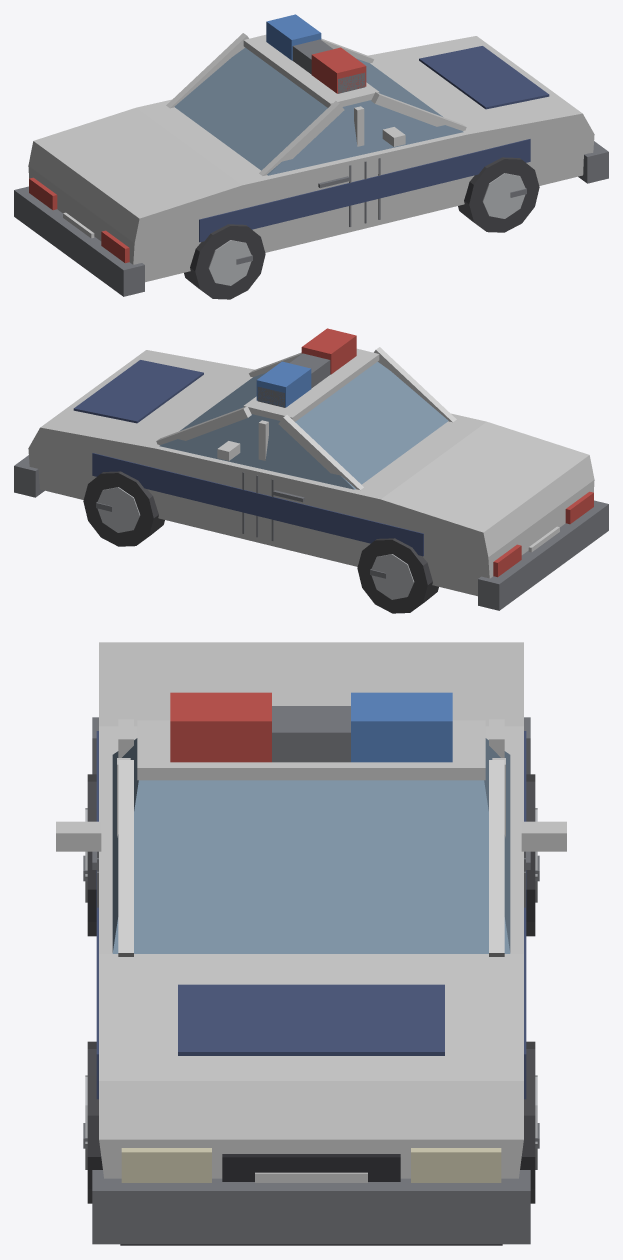
Rendered from Arac_Polis.glb.
3 renders of one model, top to bottom at view 1: azimuth 30°, elevation 25°; view 2: azimuth 150°, elevation 25°; view 3: azimuth 270°, elevation 25°, orthographic. The views are drawn at different scales.
Visible parts, largest first — view 1: Arac_Polis, Wheel_0.008, Wheel_2.008; view 2: Arac_Polis, Wheel_3.008, Wheel_1.008; view 3: Arac_Polis, Wheel_0.008, Wheel_1.008, Wheel_2.008, Wheel_3.008.
Boxes of the visible parts, x1,y1,x2,y2 form: Arac_Polis: [14, 14, 608, 296]; Wheel_0.008: [458, 157, 539, 232]; Wheel_2.008: [184, 224, 265, 299]; Arac_Polis: [14, 328, 608, 610]; Wheel_3.008: [357, 538, 438, 613]; Wheel_1.008: [83, 471, 164, 546]; Arac_Polis: [56, 642, 566, 1245]; Wheel_0.008: [83, 1041, 102, 1203]; Wheel_1.008: [520, 1041, 539, 1203]; Wheel_2.008: [83, 774, 96, 936]; Wheel_3.008: [526, 774, 539, 936].
Bounding box in the file's own units: 4.96 × 1.76 × 2.26.
